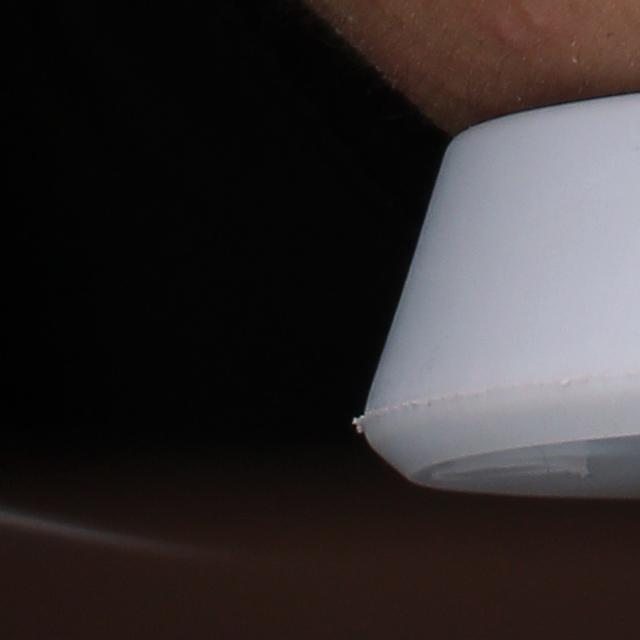papule: (492, 21, 528, 48)
